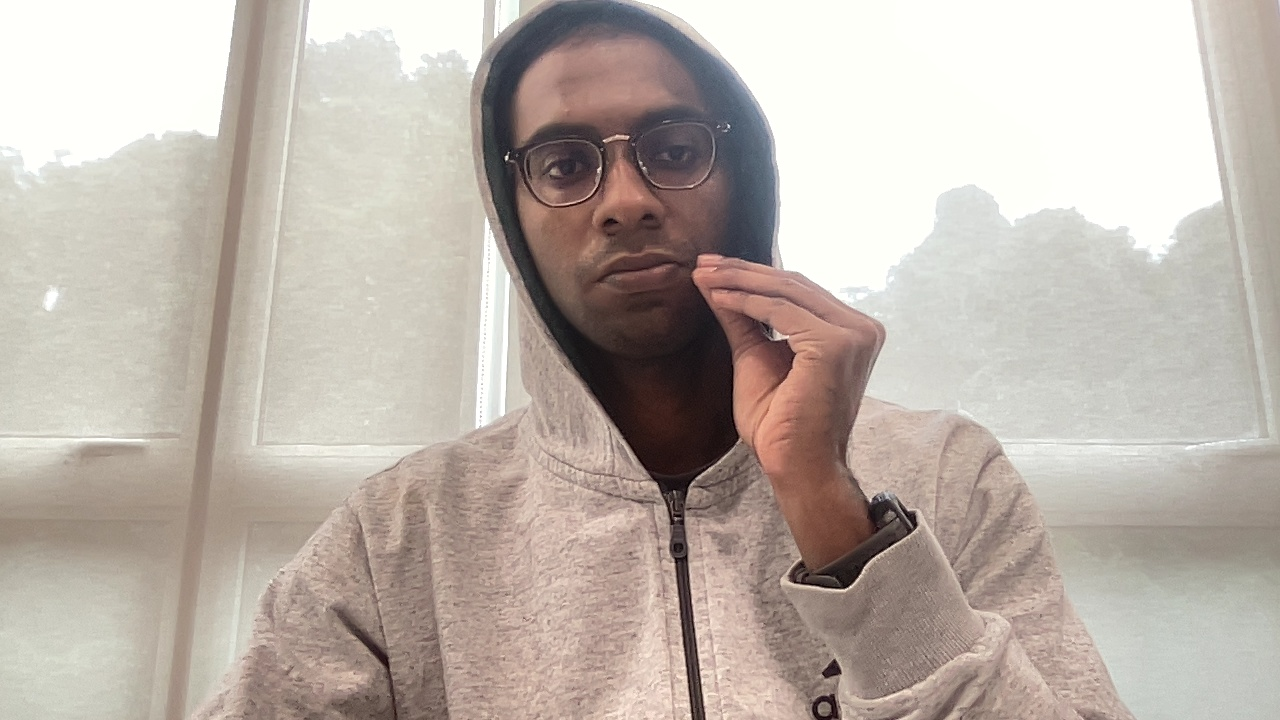eat: (682, 246, 890, 459)
